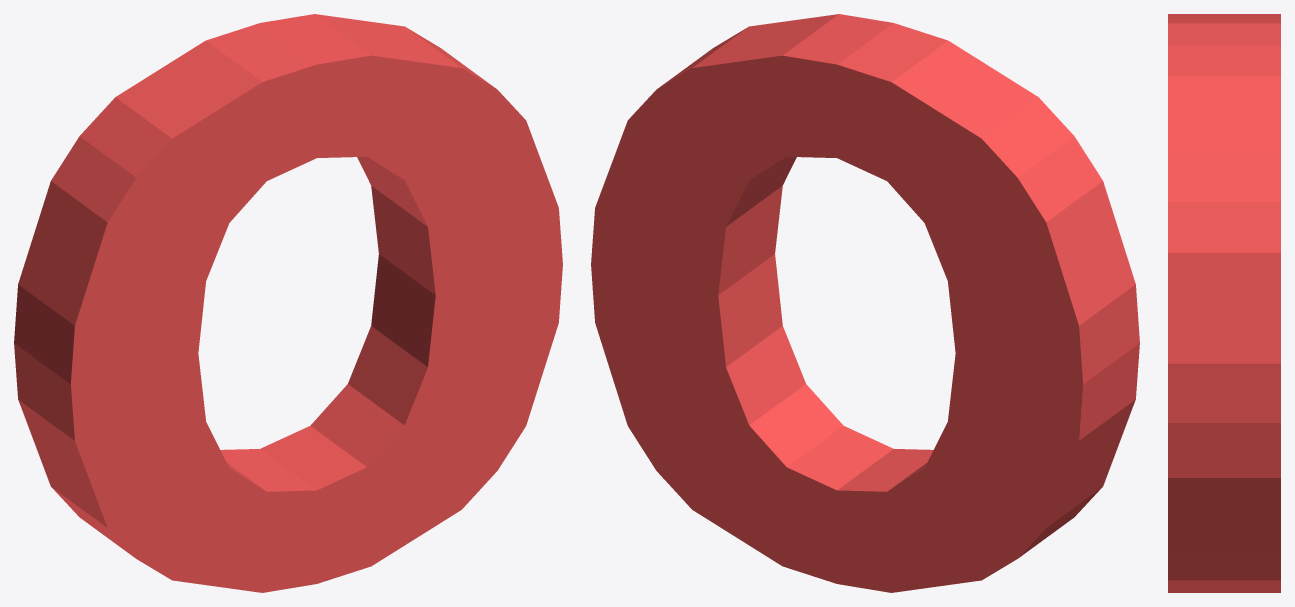
The model's file is huruf_besar_o.glb.
The picture shows the model from 3 angles, left to right: view 1: azimuth 30°, elevation 25°; view 2: azimuth 150°, elevation 25°; view 3: azimuth 270°, elevation 25°; orthographic projection.
Parts seen in each view (by area): view 1: geometry_0; view 2: geometry_0; view 3: geometry_0.
Part boxes in pixels (x1,y1,x2,y2): geometry_0: (14, 14, 562, 592); geometry_0: (591, 14, 1139, 592); geometry_0: (1168, 14, 1280, 592).
Bounding box in the file's own units: 7.5 × 7.56 × 1.5.
